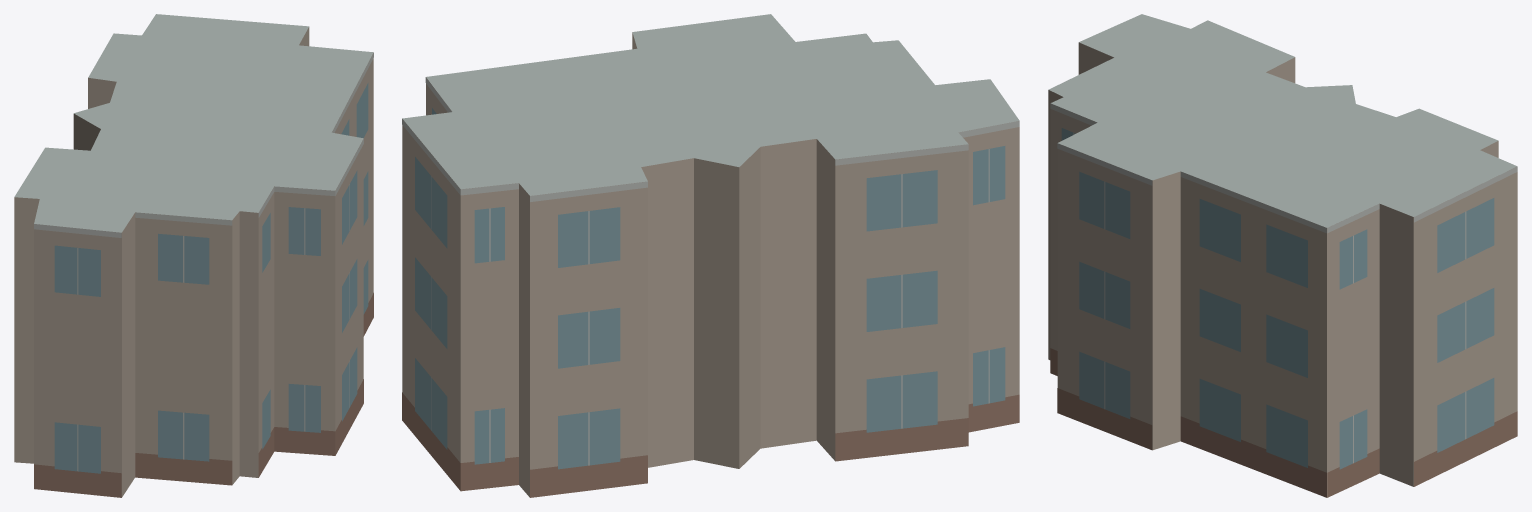
Rendered from survey-upis-32948021.glb.
3 views of the same model, side by side, from view 1: azimuth 30°, elevation 25°; view 2: azimuth 150°, elevation 25°; view 3: azimuth 270°, elevation 25° (orthographic). The views are drawn at different scales.
Parts seen in each view (by area): view 1: survey-upis-32948021.tmp; view 2: survey-upis-32948021.tmp; view 3: survey-upis-32948021.tmp.
Part boxes in pixels (box(x1,y1,x2,y2)): survey-upis-32948021.tmp: box(14, 14, 373, 497); survey-upis-32948021.tmp: box(402, 14, 1019, 497); survey-upis-32948021.tmp: box(1048, 14, 1517, 497).
Bounding box in the file's own units: 20.32 × 11.95 × 18.83.
